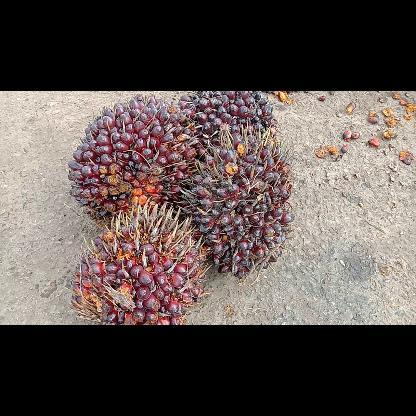Kurang masak: (176, 132, 296, 282), (70, 202, 214, 324), (176, 92, 277, 166)
TBS masak: (66, 92, 198, 232)
